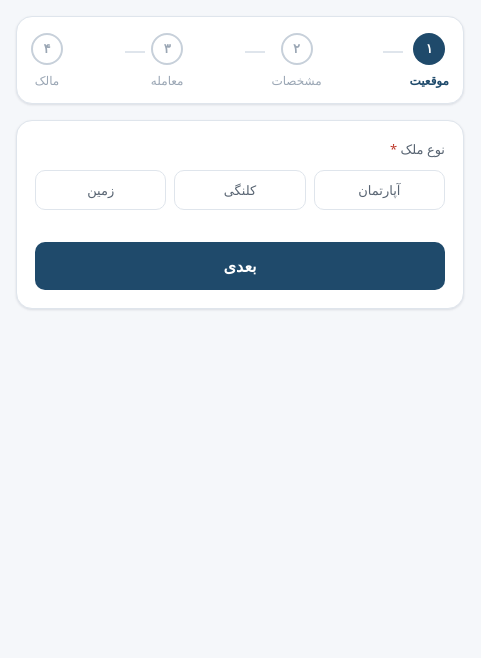
AddFileScreen wizard › does not show floor/unit for land type
The width and height of the screenshot is (481, 658).
Click the button "زمین": (101, 190) [35,170,166,210]
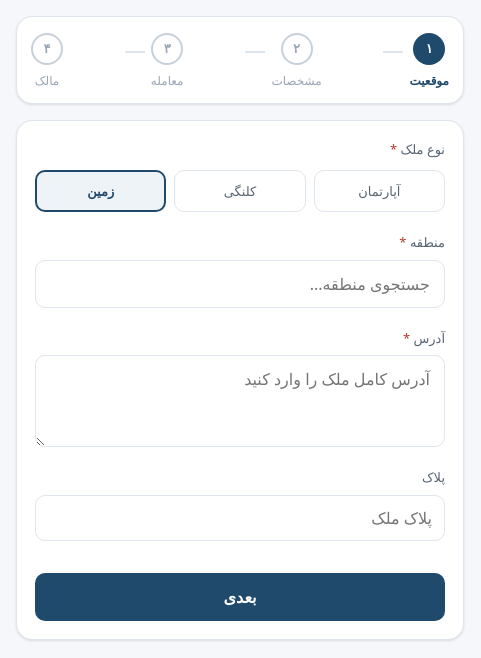
Check: the text "منطقه" is shown, box [406,233,445,251]
